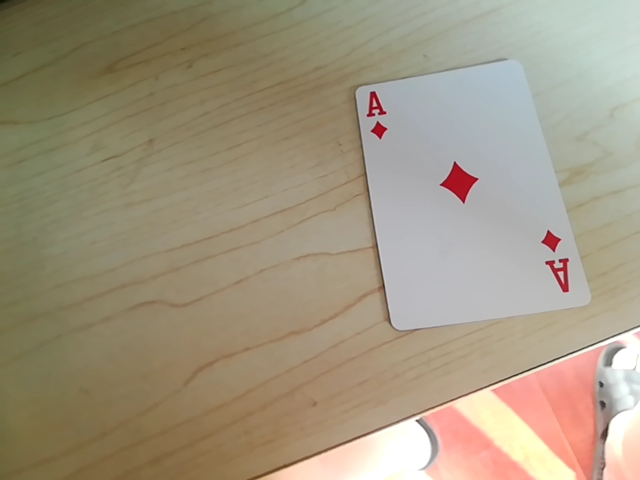fk a: (539, 228, 572, 295), (354, 91, 394, 142)
